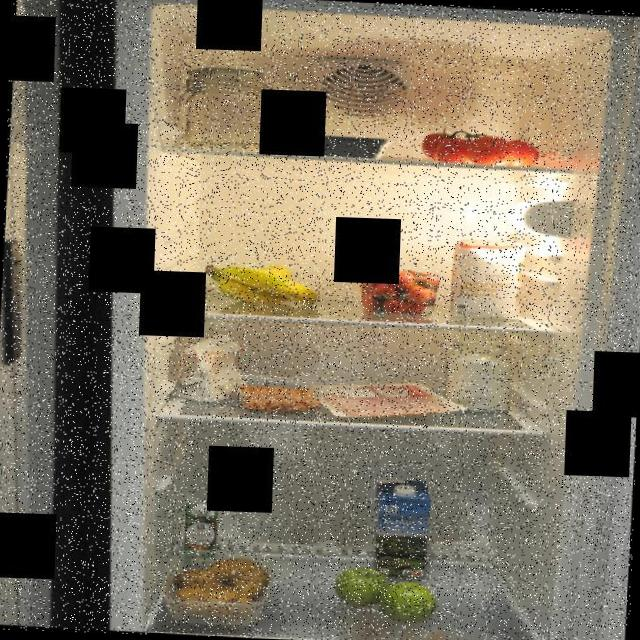Carne cerdo: (304, 375, 470, 423)
Gambas/Langostinos: (238, 384, 322, 414)
Leche: (370, 477, 438, 579)
Manzana: (332, 560, 450, 626)
Patata: (163, 546, 276, 628)
Plátano: (200, 259, 326, 306)
Tomate: (410, 119, 546, 170)
